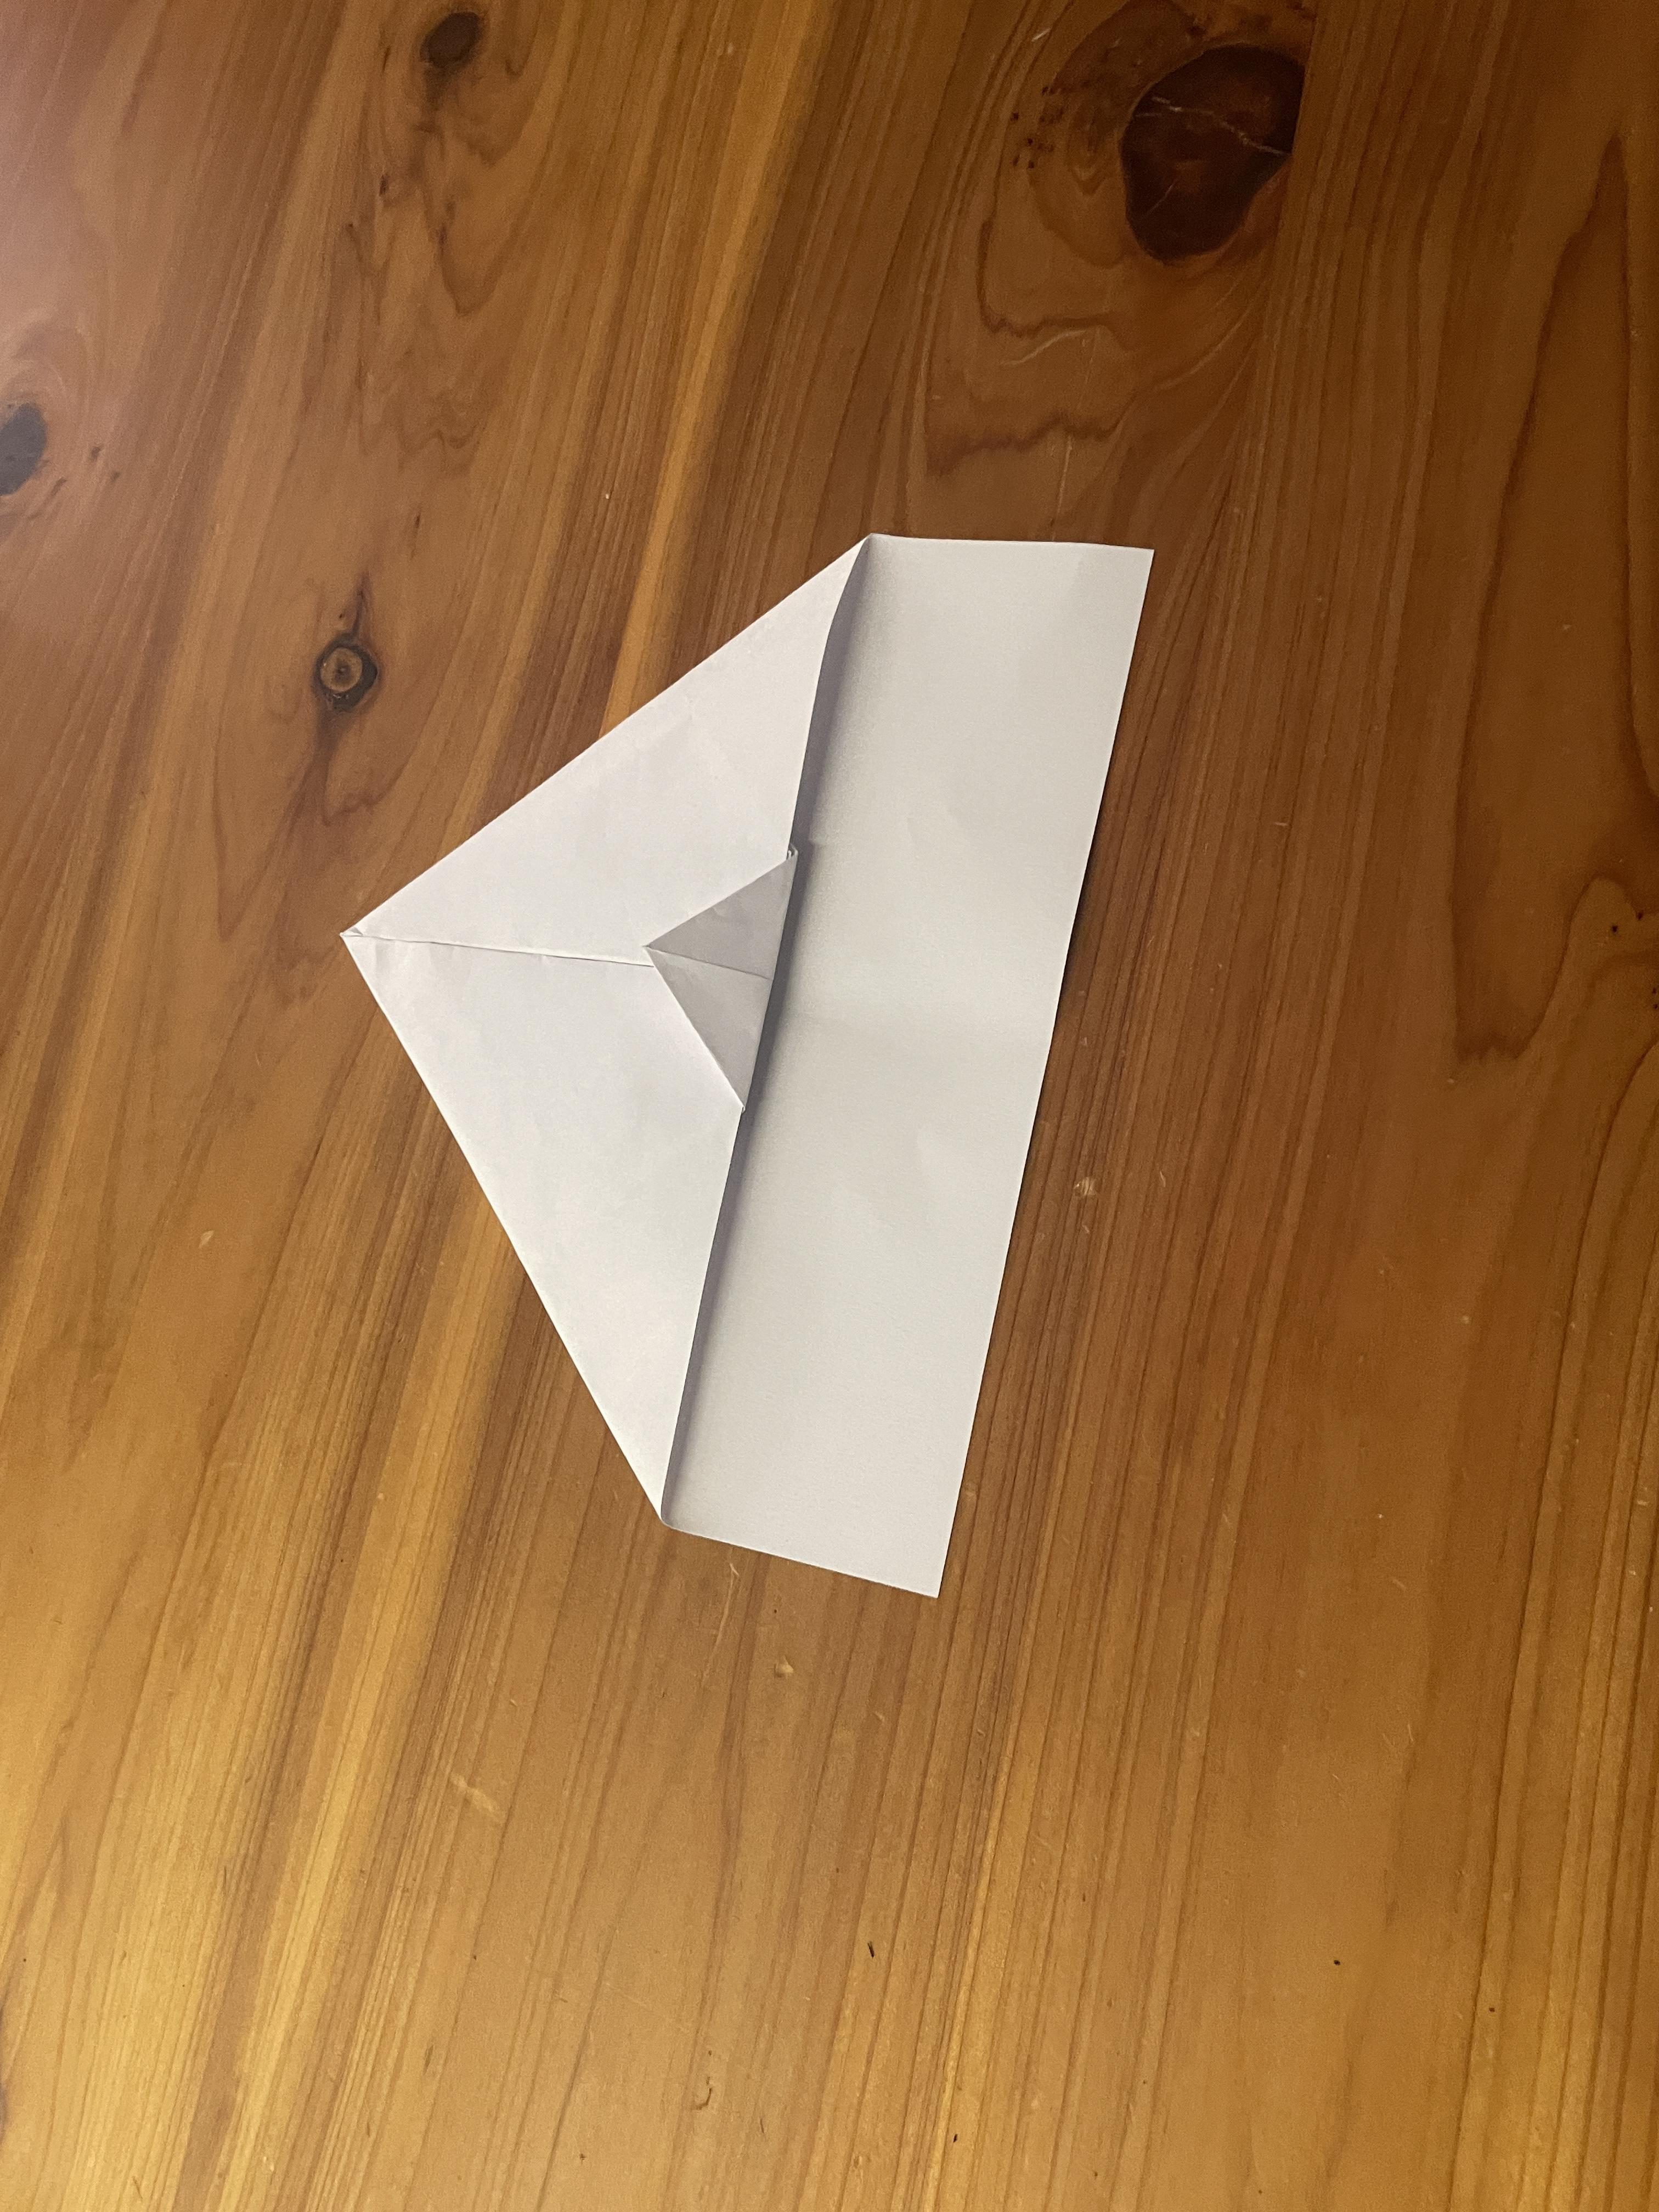shape_2: (120, 331, 1276, 1775)
